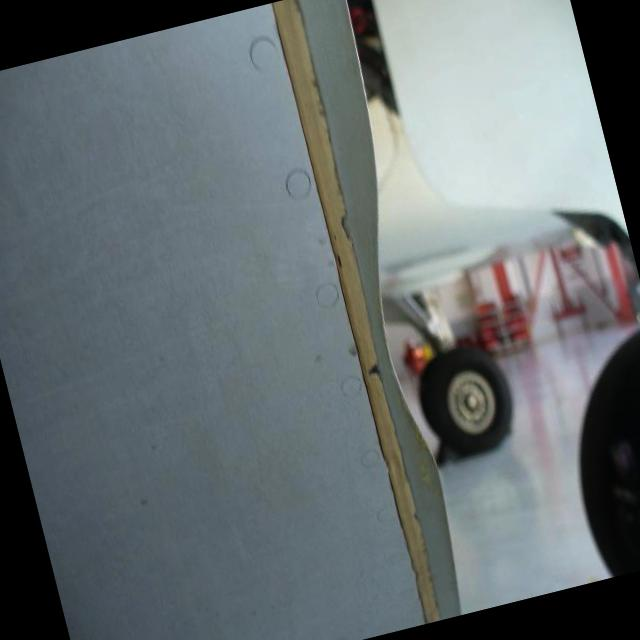dent: (324, 120, 491, 592)
